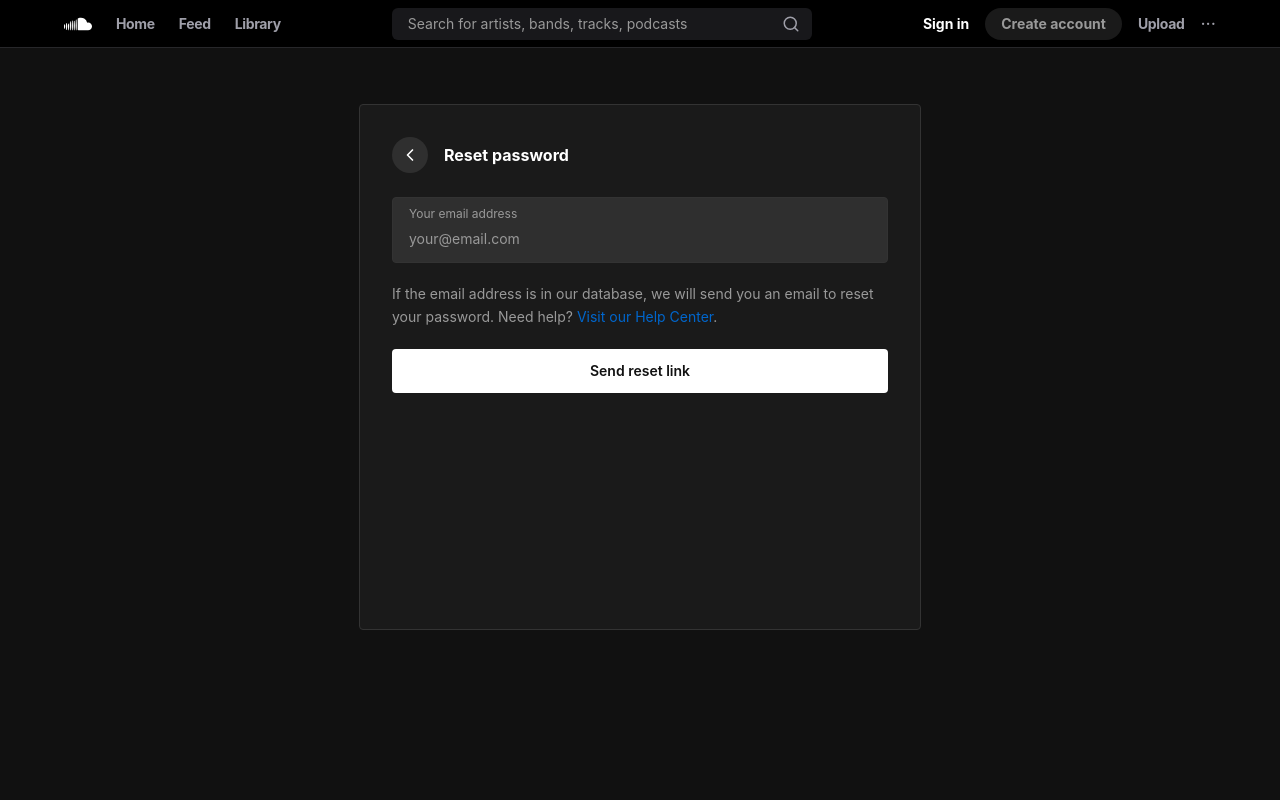
Test: ForgotPasswordPage — validation › shows error when submitting with empty input
This screenshot has width=1280, height=800.
Click the button "Send reset link".
click(640, 370)  # box [392,348,888,392]
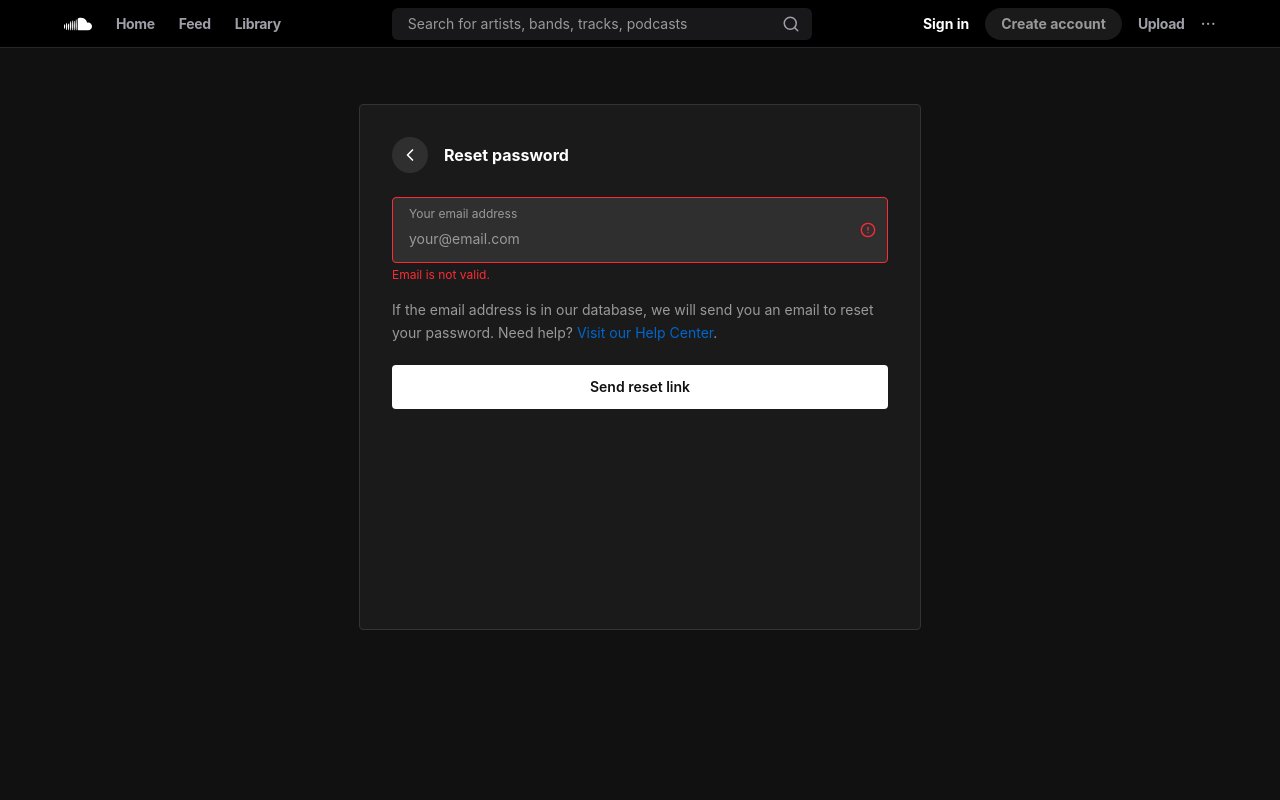
expect the text "Email is not valid." is shown: met, box [392,267,490,282]
